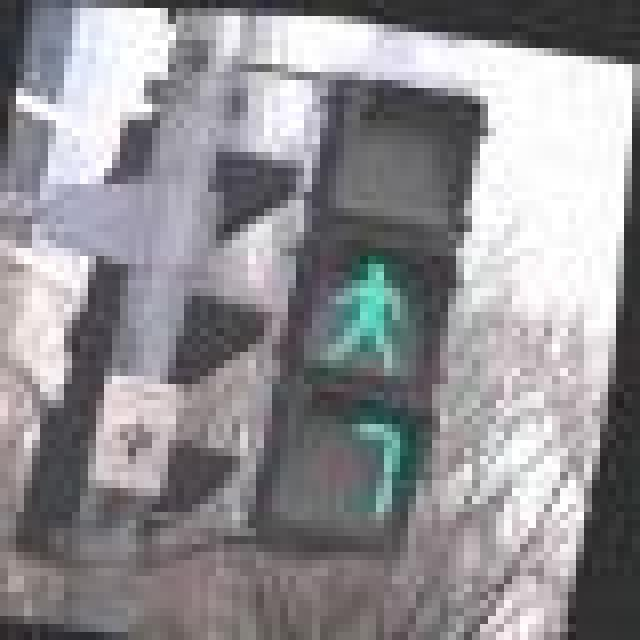greenlight: (272, 64, 488, 400)
